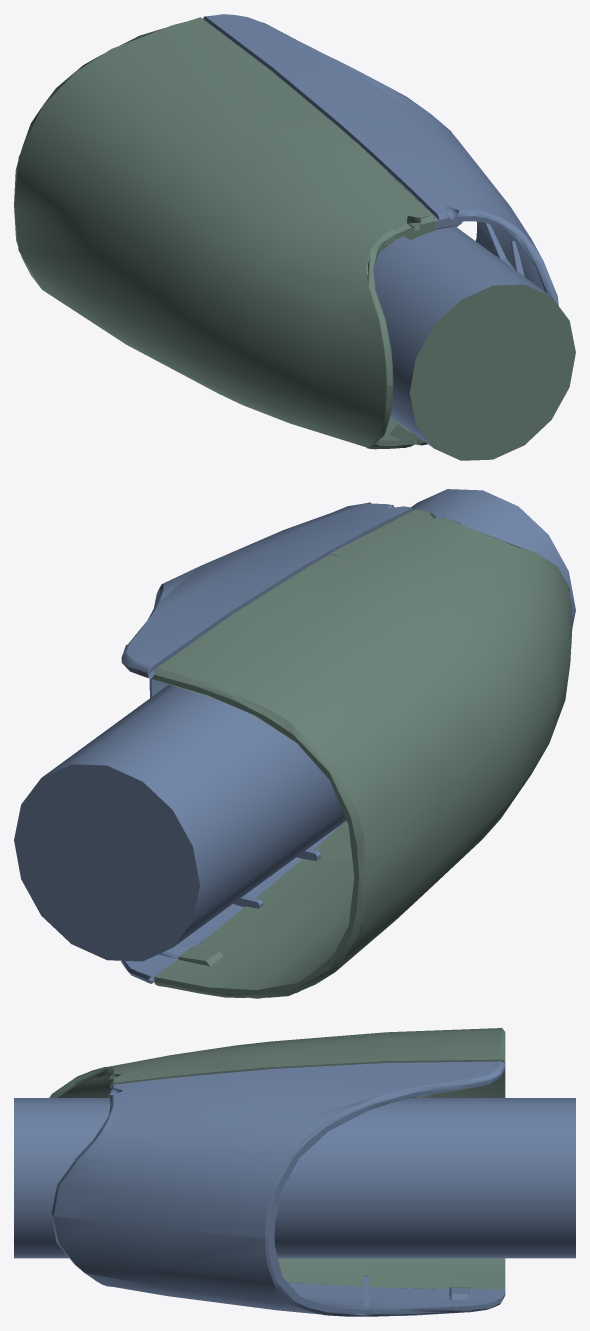
File: icub_l_forearm.dae
3 views of the same model, one above another, from view 1: azimuth 30°, elevation 25°; view 2: azimuth 150°, elevation 25°; view 3: azimuth 270°, elevation 25° (orthographic). The views are drawn at different scales.
Parts seen in each view (by area): view 1: l_forearm_mesh, l_forearm_cyl_mesh; view 2: l_forearm_mesh, l_forearm_cyl_mesh; view 3: l_forearm_mesh, l_forearm_cyl_mesh.
Boxes of the visible parts, x1,y1,x2,y2 form: l_forearm_mesh: (14,14,558,449); l_forearm_cyl_mesh: (373,227,575,460); l_forearm_mesh: (121,502,572,998); l_forearm_cyl_mesh: (14,489,575,961); l_forearm_mesh: (49,1027,505,1316); l_forearm_cyl_mesh: (14,1098,575,1258).
Size of the model in its own units: 0.0804 by 0.0654 by 0.14.
